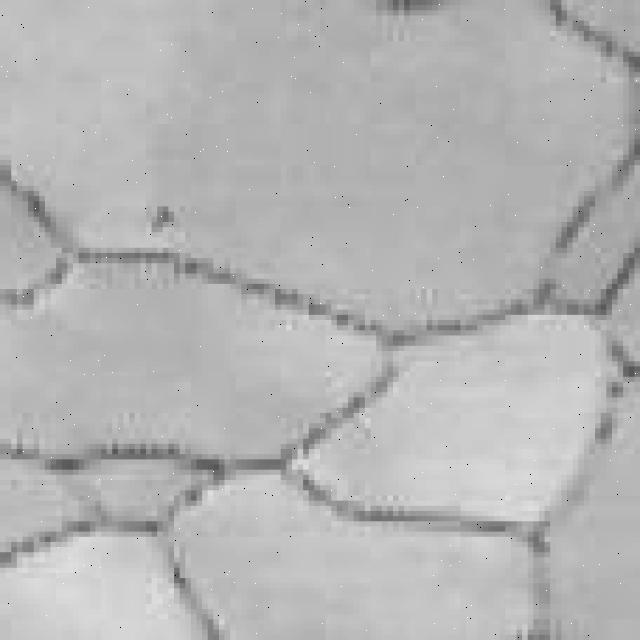good_void: (157, 206, 174, 232)
